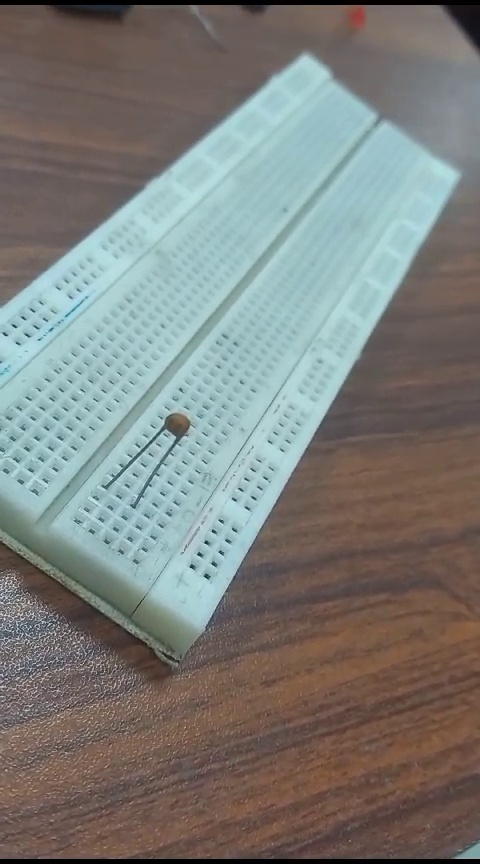ceramic capacitor: (104, 407, 195, 512)
